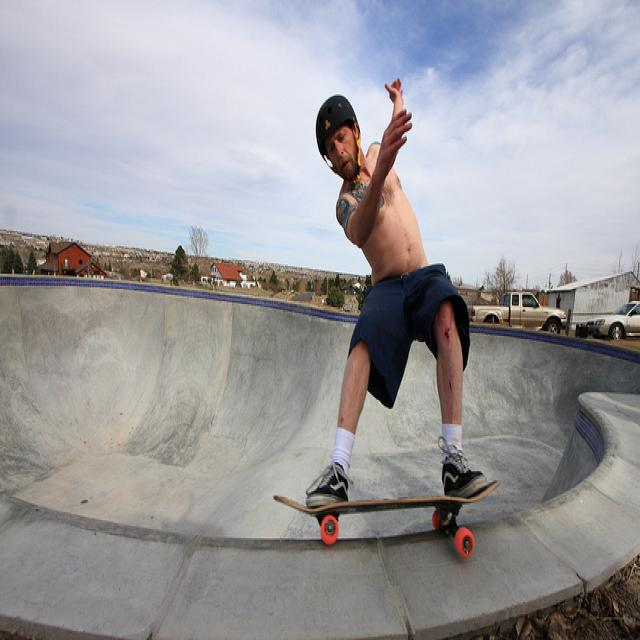Vehicle: (469, 292, 567, 336), (592, 300, 640, 340)
